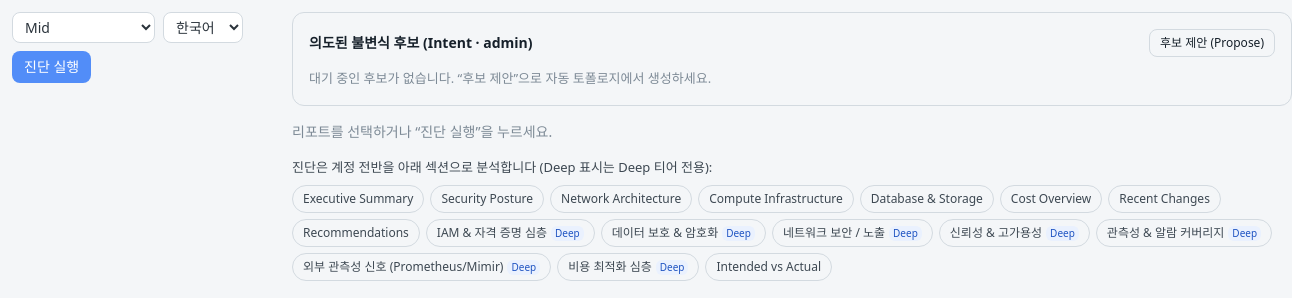
Test: DiagnosisView — deep tier + model selection › offers a Deep tier option and a model radio (default Sonnet) only for deep
Step 1. Select "Deep (15+1섹션)" in the dropdown named "진단 티어" → [84, 28], box x1=12 y1=12 x2=155 y2=43
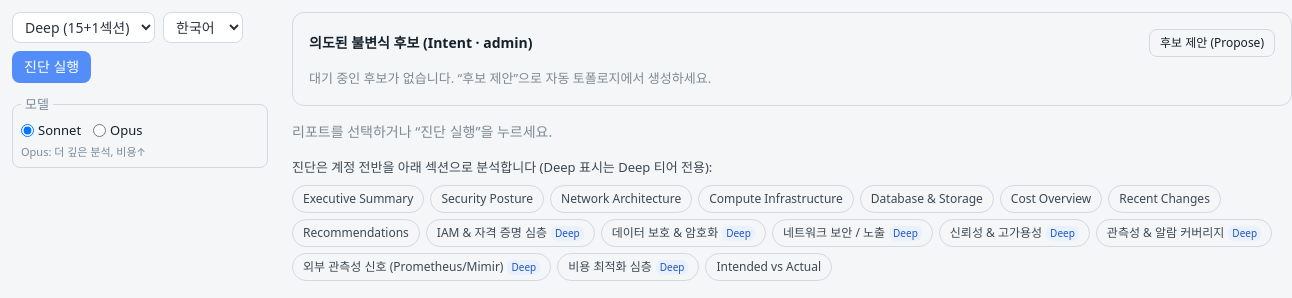
Check: the number of radio buttons is 2, box x1=21 y1=124 x2=34 y2=137; x1=93 y1=124 x2=106 y2=137
Check: the radio button labelled "sonnet" is checked, box x1=21 y1=124 x2=34 y2=137
